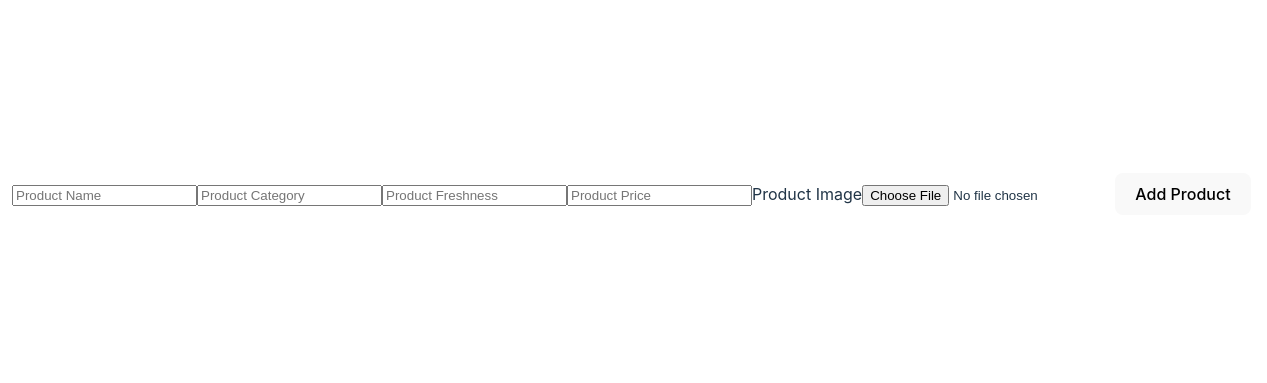
it: CreateProduct Component › should not allow Product Name to exceed 25 characters
This screenshot has width=1267, height=383.
Type "This Product Name Is Way Too Long" into the field with placeholder "Product Name" at [104, 196], box [12, 185, 197, 206]
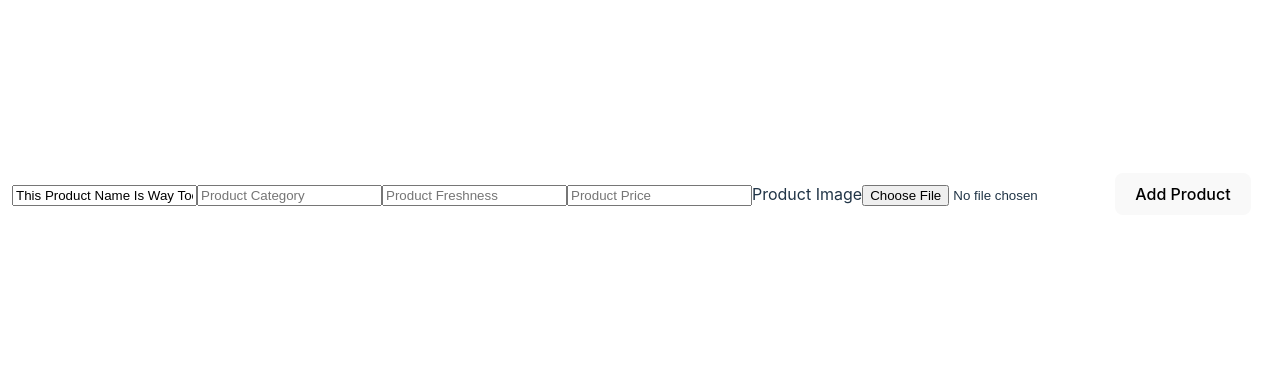
Click the button "Add Product" at [1183, 194], box [1115, 173, 1251, 215]
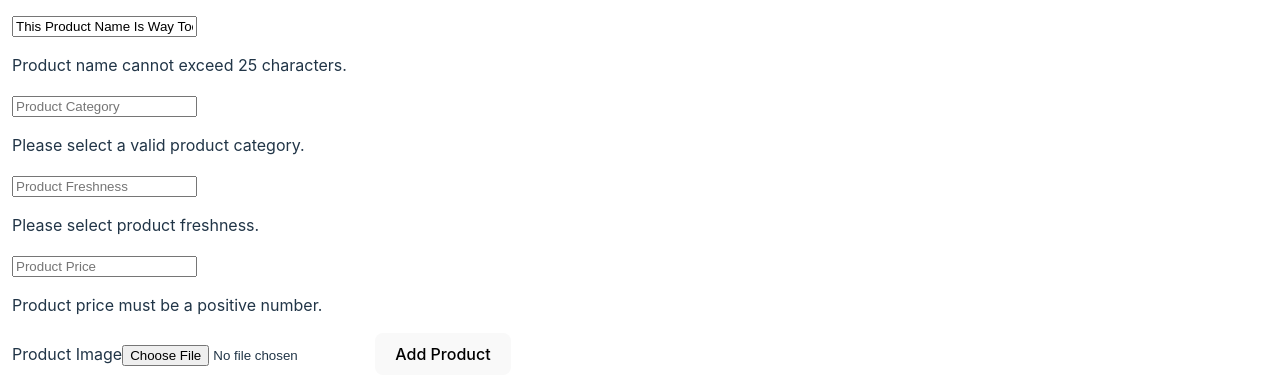
Result: the text "Product name cannot exceed 25 characters." is shown at [12, 55, 347, 75]
